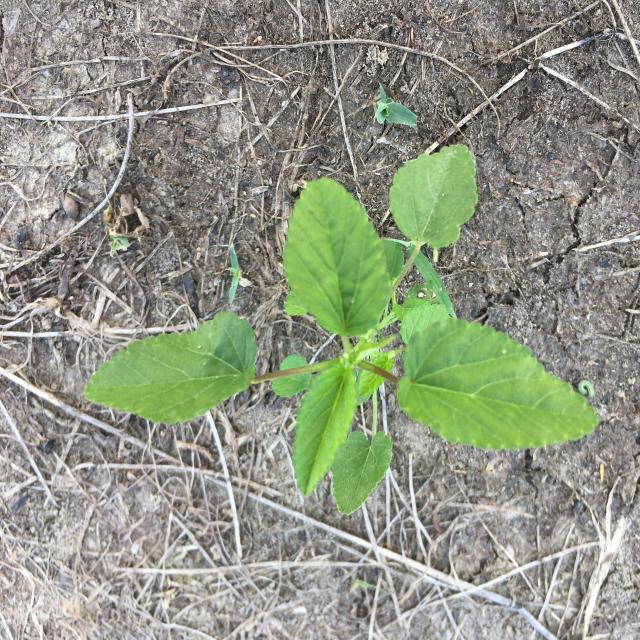PricklySida: (83, 145, 600, 517)
